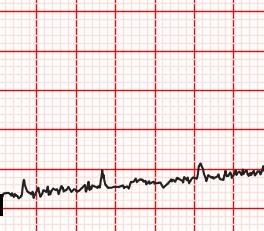Poor R Progression: (194, 161, 214, 184), (96, 168, 109, 192), (20, 174, 31, 200)
